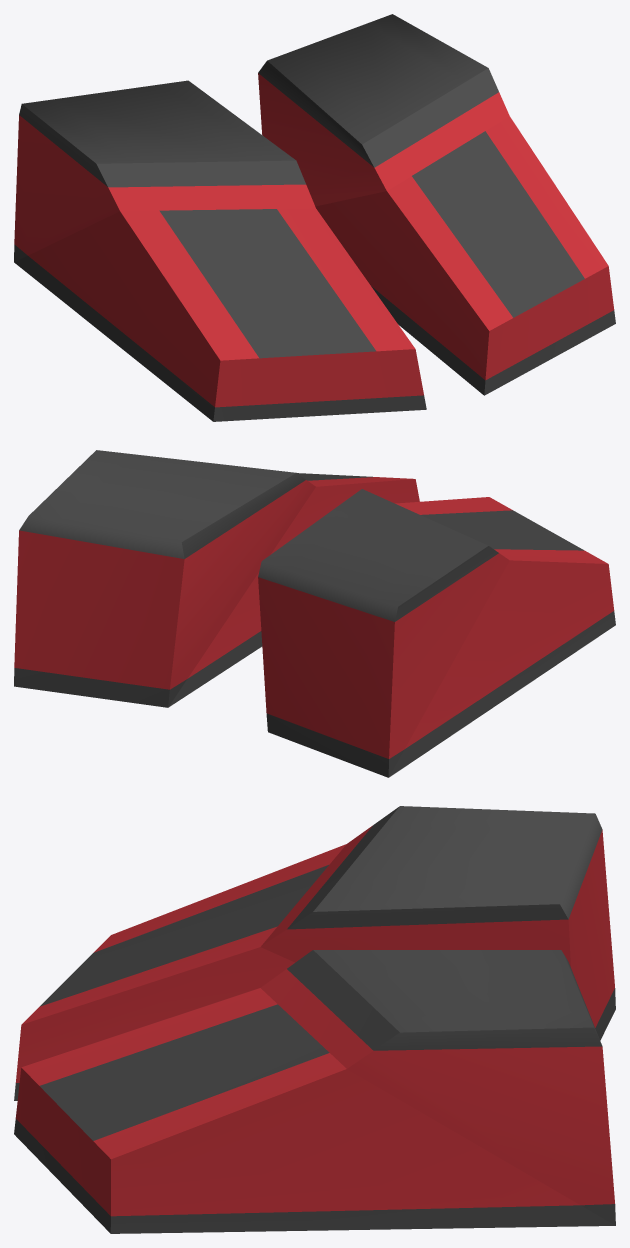
Rendered from Shoes.fbx.
3 views of the same model, one above another, from view 1: azimuth 30°, elevation 25°; view 2: azimuth 150°, elevation 25°; view 3: azimuth 270°, elevation 25° (orthographic). The views are drawn at different scales.
Parts seen in each view (by area): view 1: Shoes; view 2: Shoes; view 3: Shoes.
Part boxes in pixels (x1,y1,x2,y2): Shoes: (14,14,615,421); Shoes: (14,450,615,777); Shoes: (14,806,615,1233).
Size of the model in its own units: 22.07 by 8.78 by 24.14.
